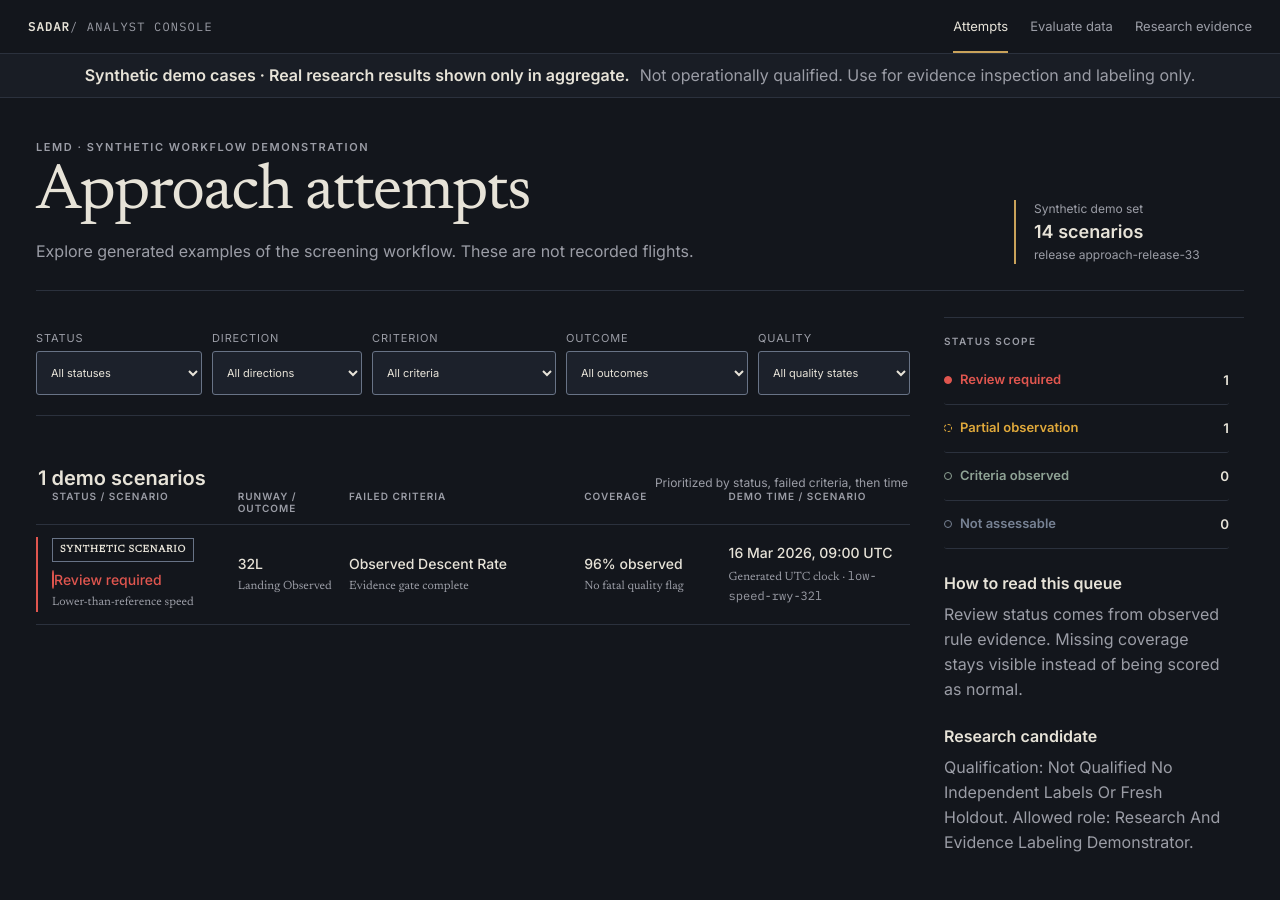
it: attempt-first navigation › moves from queue to canonical dossier and operation context
Click the link with aria-label "Open synthetic scenario Lower-than-reference speed": (473, 574) [36,524,910,624]
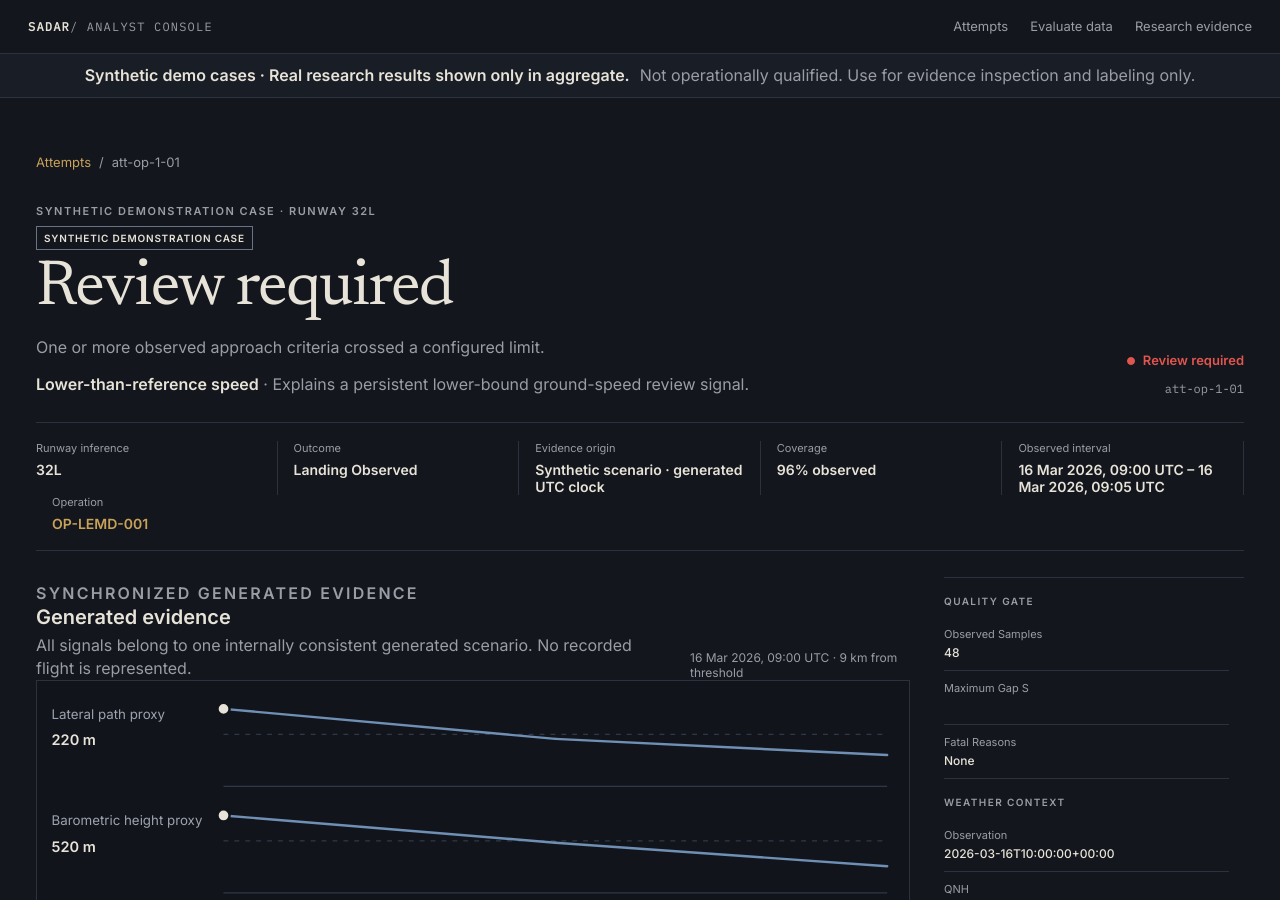
Result: the heading "Review required" is shown at [36,257,453,321]
Click the link "OP-LEMD-001": (100, 523) [52,514,148,532]
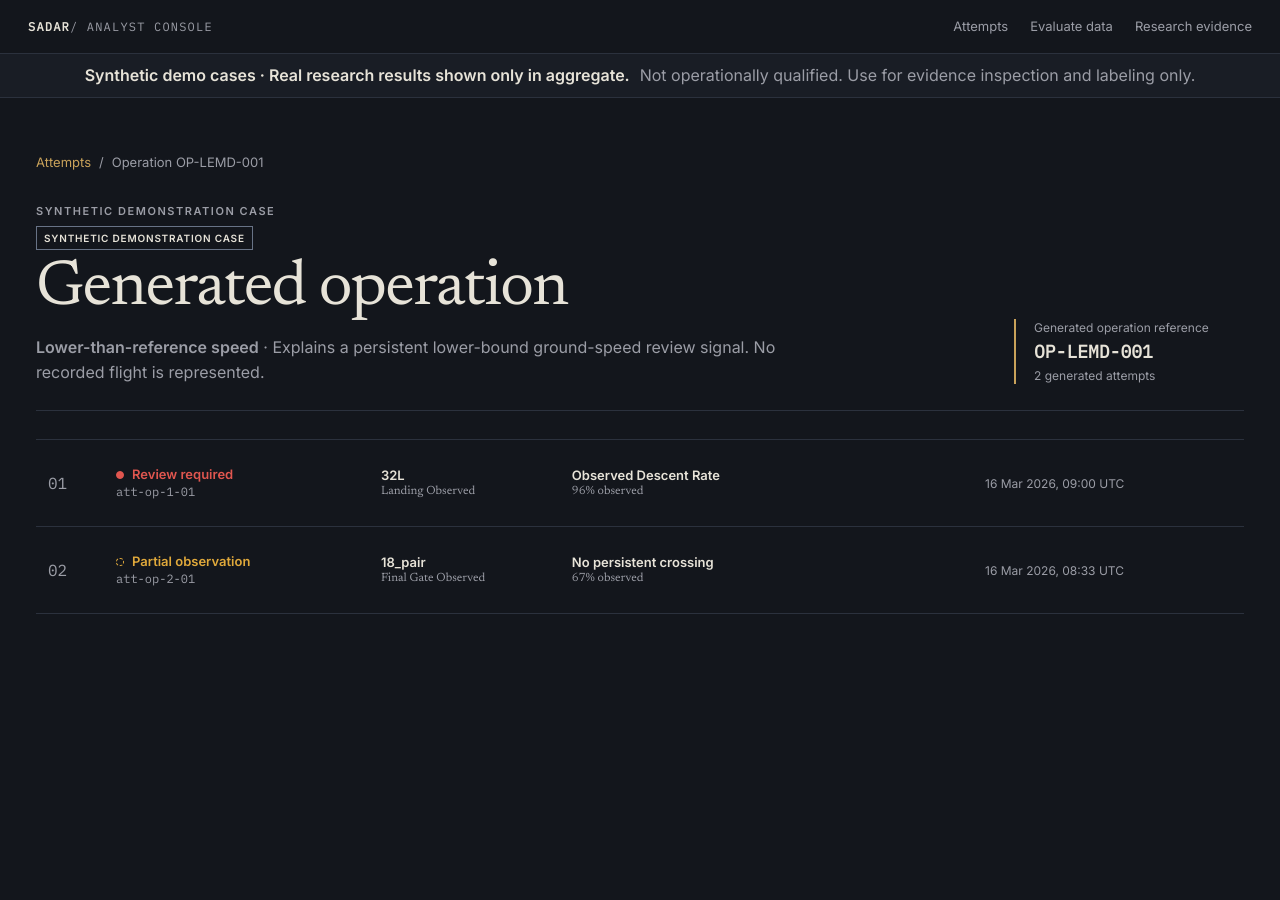
Result: the heading "Generated operation" is shown at [36,257,567,321]
